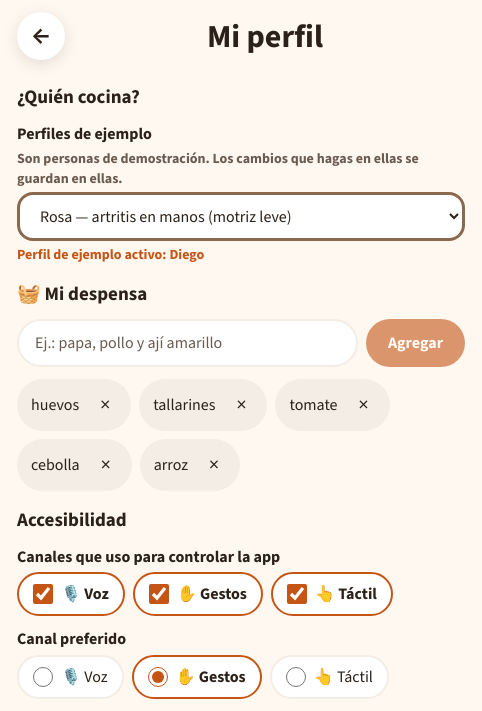
ProfileScreen › ¿Quién cocina? › elegir un ejemplo cambia de perfil, lo anuncia y lo deja a la vista
The width and height of the screenshot is (482, 711).
Step 1. Select "Rosa — artritis en manos (motriz leve)" in the dropdown labelled "Perfiles de ejemplo" → {"x": 241, "y": 217}, box [17,192,465,241]
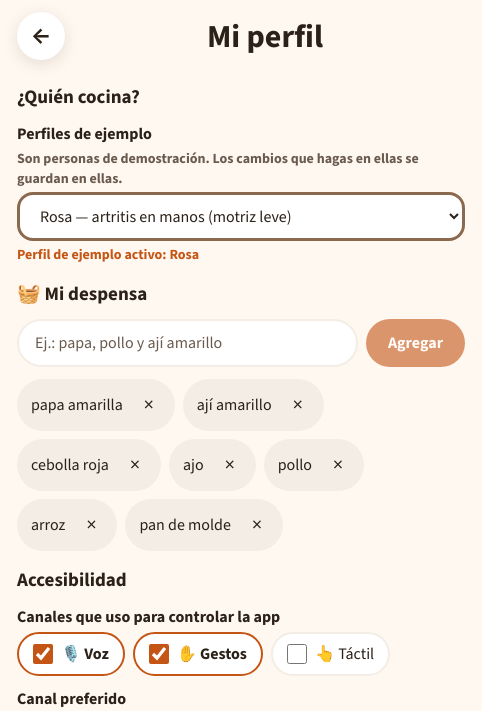
Expected: the text "Perfil de ejemplo activo: Rosa" is shown, [17,245,199,264]
